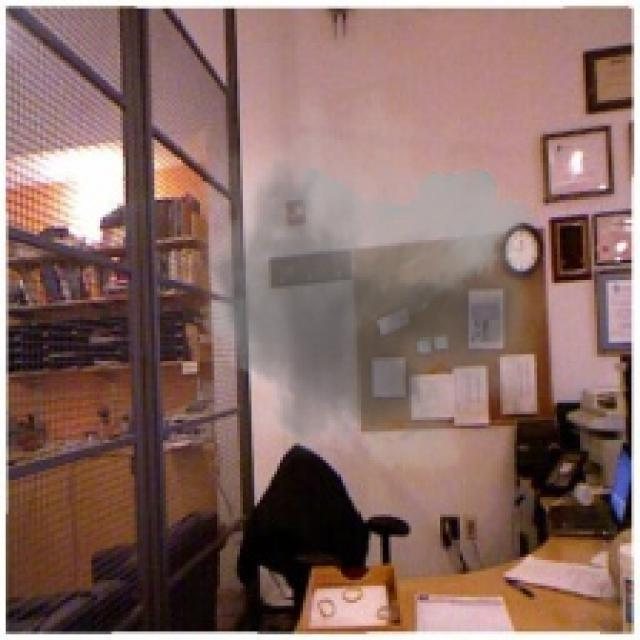Smoke: (180, 86, 554, 492)
